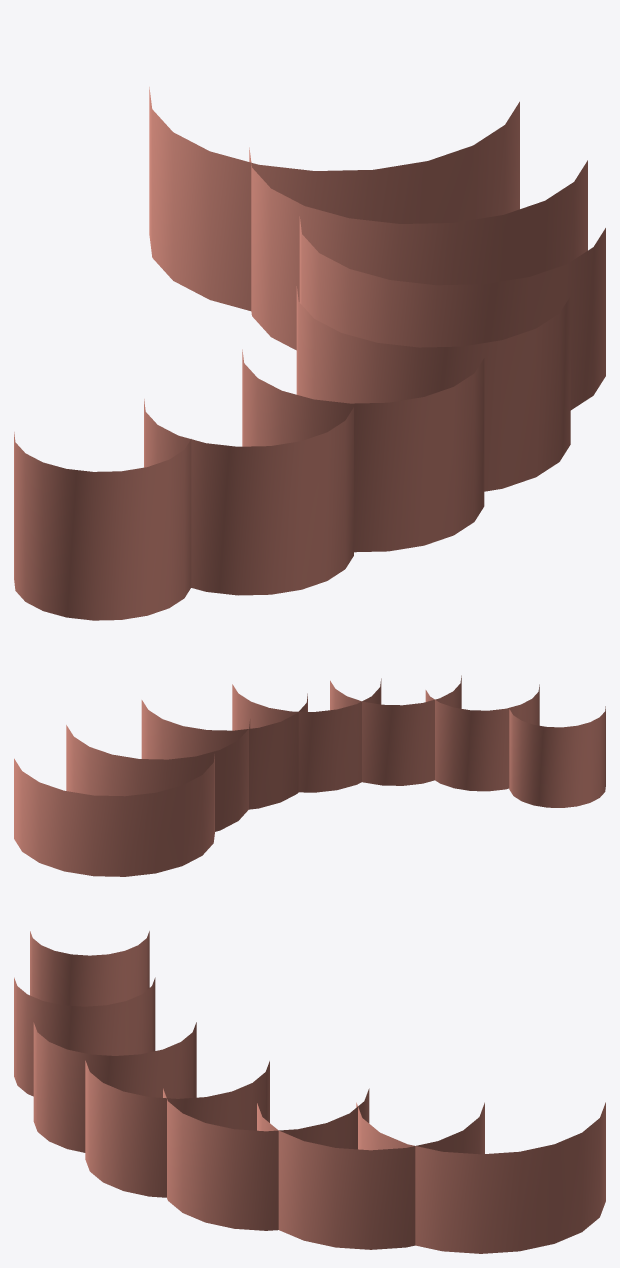
The model's file is shrimp.glb.
3 views of the same model, one above another, from view 1: azimuth 30°, elevation 25°; view 2: azimuth 150°, elevation 25°; view 3: azimuth 270°, elevation 25° (orthographic). The views are drawn at different scales.
Visible parts, largest first — view 1: seg_0, seg_6, seg_5, seg_1, seg_4, seg_3, seg_2; view 2: seg_0, seg_1, seg_6, seg_2, seg_3, seg_5, seg_4; view 3: seg_0, seg_1, seg_2, seg_3, seg_4, seg_5, seg_6.
Part boxes in pixels (bbox=[...]): seg_0: bbox=[149, 87, 519, 310]; seg_6: bbox=[14, 432, 191, 620]; seg_5: bbox=[144, 399, 353, 595]; seg_1: bbox=[249, 147, 587, 350]; seg_4: bbox=[242, 349, 484, 552]; seg_3: bbox=[296, 286, 570, 491]; seg_2: bbox=[299, 216, 605, 410]; seg_0: bbox=[14, 754, 214, 876]; seg_1: bbox=[66, 719, 250, 831]; seg_6: bbox=[509, 706, 605, 807]; seg_2: bbox=[141, 693, 307, 809]; seg_3: bbox=[232, 678, 381, 792]; seg_5: bbox=[425, 684, 539, 791]; seg_4: bbox=[330, 675, 461, 785]; seg_0: bbox=[356, 1102, 605, 1253]; seg_1: bbox=[257, 1102, 484, 1249]; seg_2: bbox=[163, 1088, 369, 1230]; seg_3: bbox=[85, 1060, 269, 1197]; seg_4: bbox=[33, 1022, 196, 1152]; seg_5: bbox=[14, 977, 155, 1096]; seg_6: bbox=[30, 931, 149, 1006].
Bounding box in the file's own units: 0.059 × 0.011 × 0.0592.
